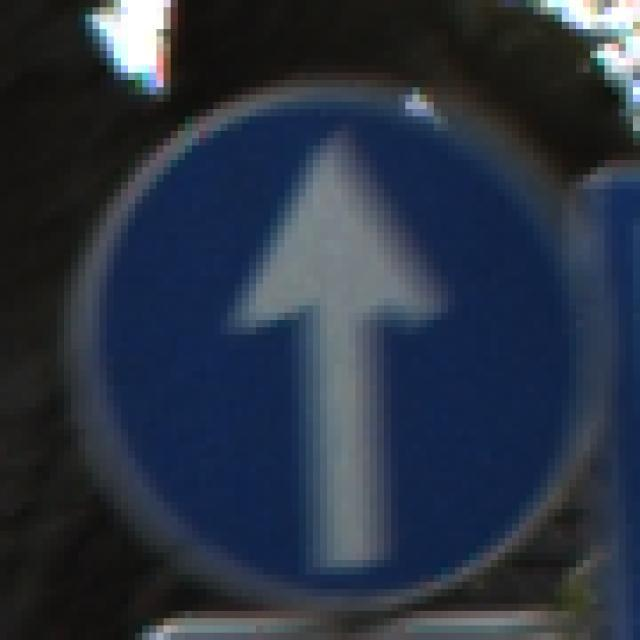compulsary ahead: (75, 81, 601, 616)
